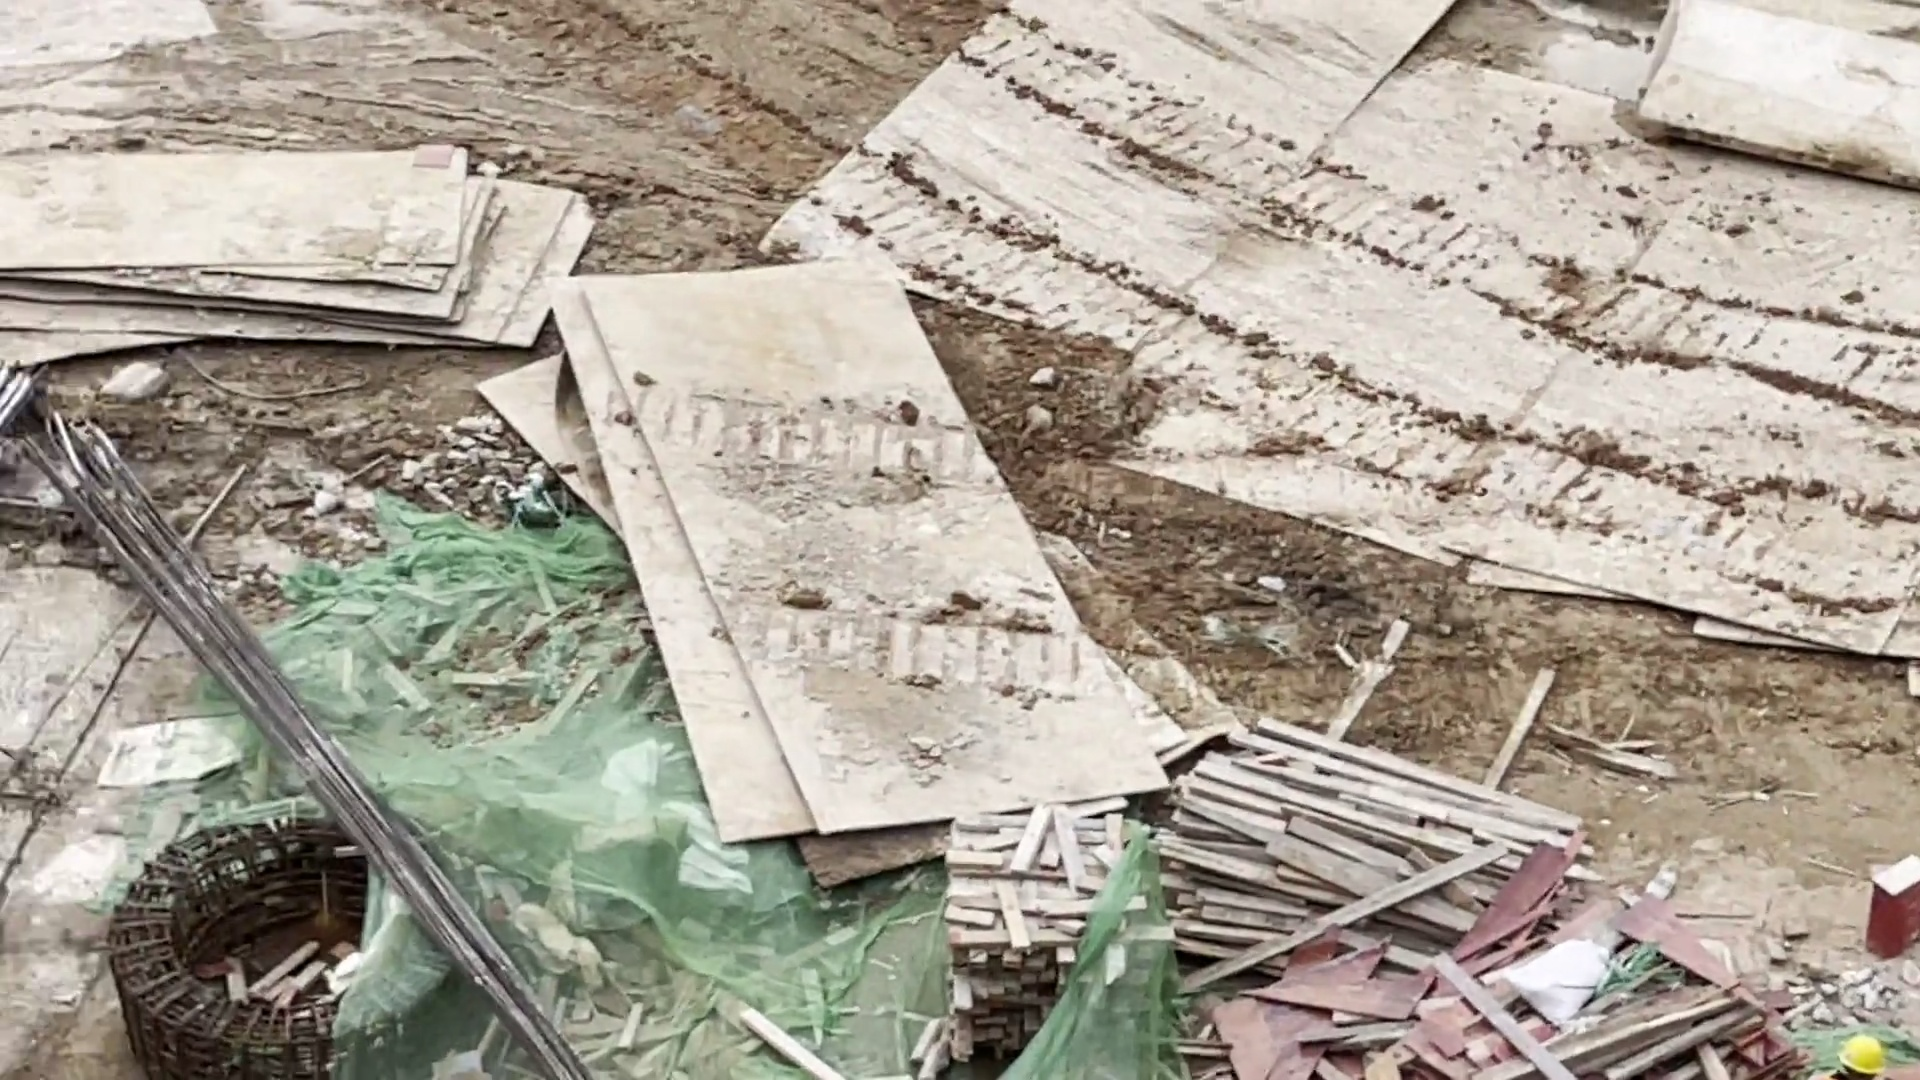helmet: (1840, 1035, 1898, 1080)
rebar: (29, 421, 589, 1080)
wood: (935, 819, 1116, 1029)
